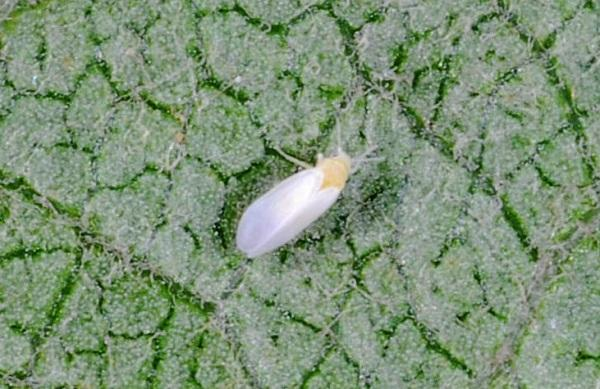Tobacco Whitefly: (236, 117, 385, 290)
